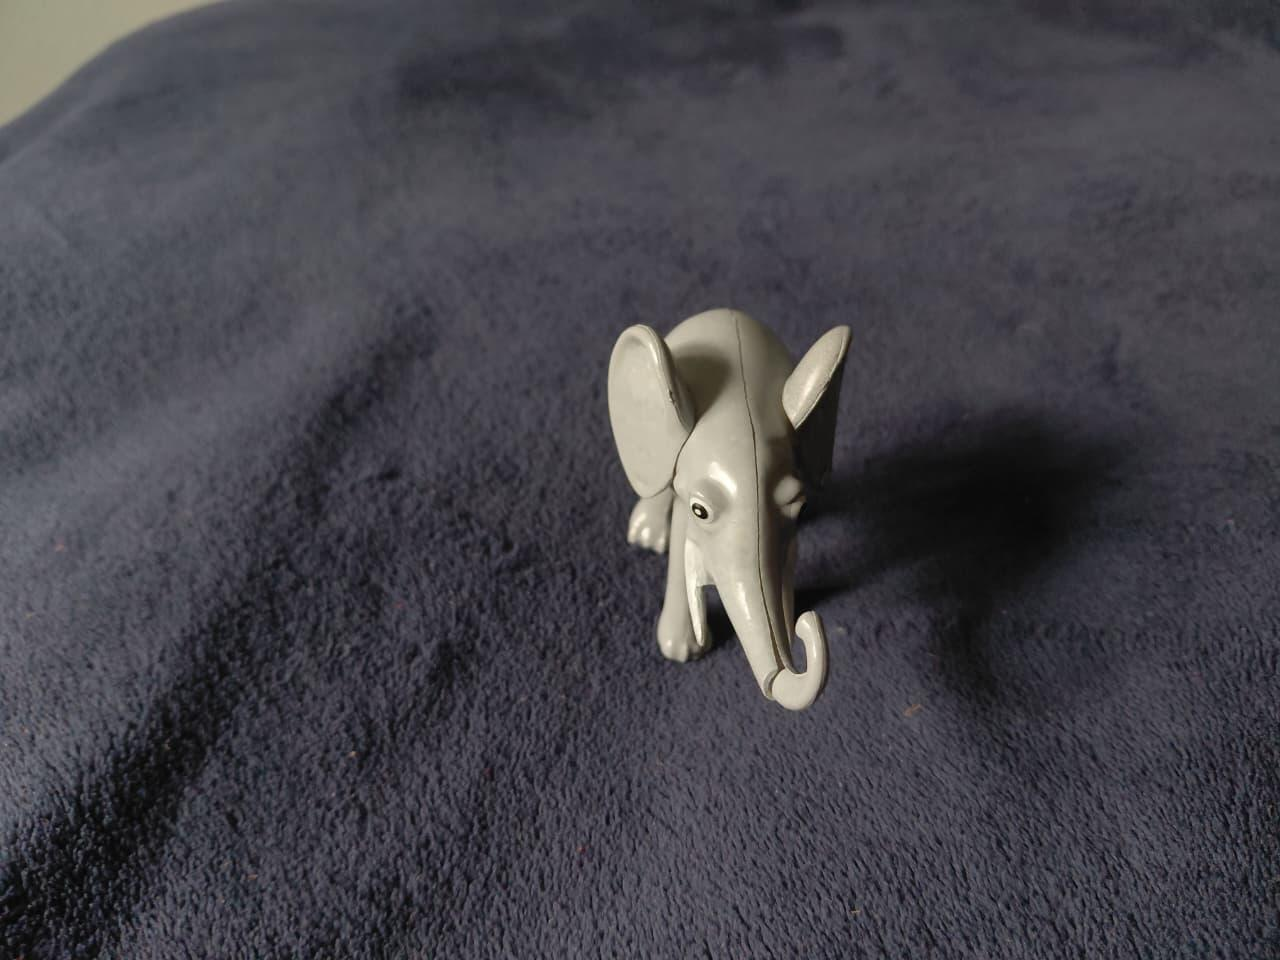elephant: (570, 294, 882, 730)
